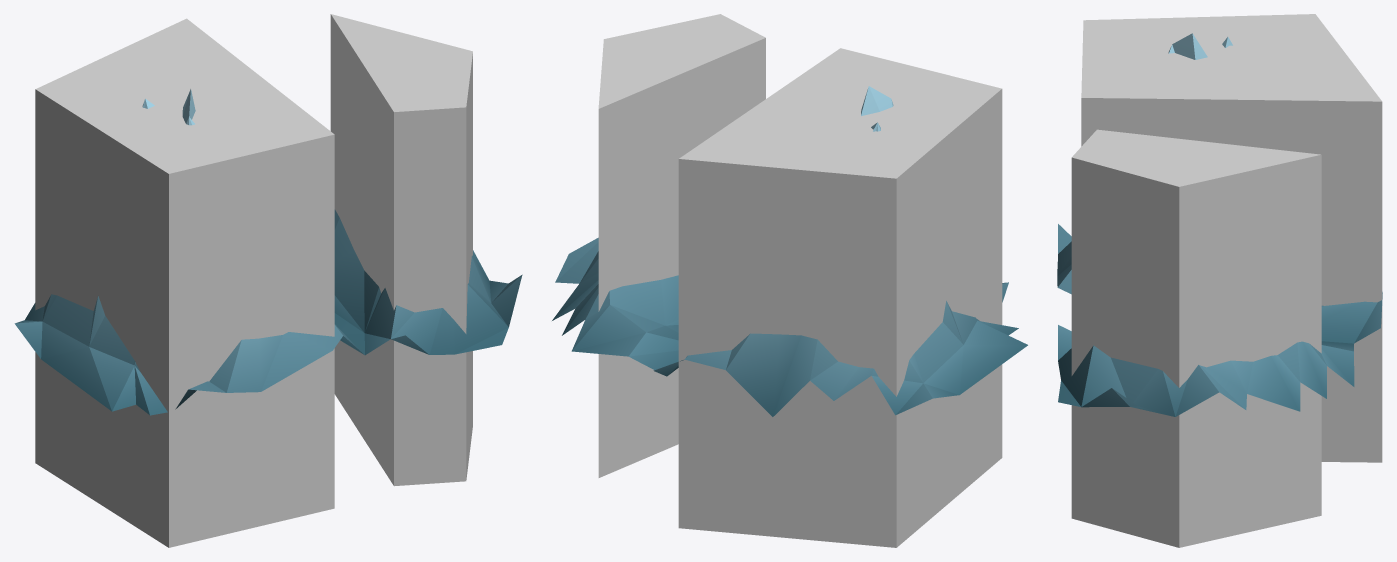
Rendered from island_small_ice_Collection_2.fbx.
3 renders of one model, left to right at view 1: azimuth 30°, elevation 25°; view 2: azimuth 150°, elevation 25°; view 3: azimuth 270°, elevation 25°, orthographic. The views are drawn at different scales.
Visible parts, largest first — view 1: islandRock_2_col, islandRock_2; view 2: islandRock_2_col, islandRock_2; view 3: islandRock_2_col, islandRock_2.
Boxes of the visible parts, <box> form: islandRock_2_col: <box>35,14,472,547</box>; islandRock_2: <box>14,89,522,415</box>; islandRock_2_col: <box>598,14,1002,547</box>; islandRock_2: <box>552,86,1027,416</box>; islandRock_2_col: <box>1071,14,1382,547</box>; islandRock_2: <box>1057,33,1382,416</box>.
Size of the model in its own units: 3938 by 3655 by 2801.
